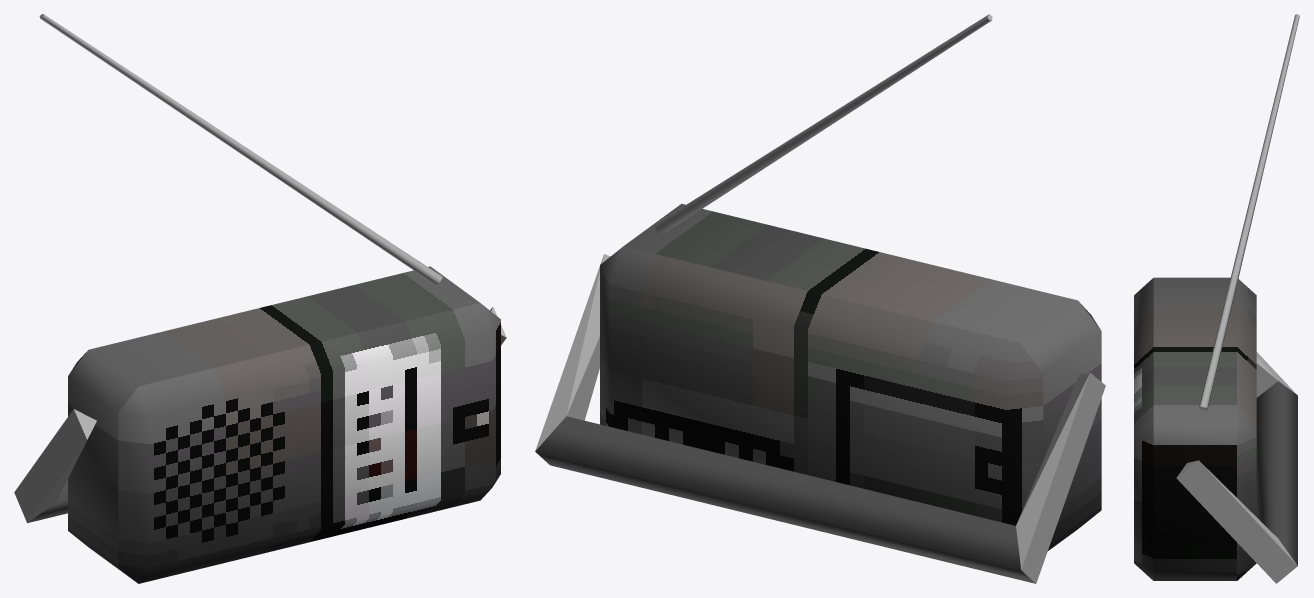
The model's file is Radio.glb.
3 views of the same model, side by side, from view 1: azimuth 30°, elevation 25°; view 2: azimuth 150°, elevation 25°; view 3: azimuth 270°, elevation 25° (orthographic). The views are drawn at different scales.
Parts seen in each view (by area): view 1: RADIO; view 2: RADIO; view 3: RADIO.
Part boxes in pixels (x1,y1,x2,y2): RADIO: (14, 14, 506, 583); RADIO: (535, 14, 1105, 583); RADIO: (1134, 14, 1299, 583).
Size of the model in its own units: 0.411 by 0.477 by 0.169.
3 materials, 2 textured.
